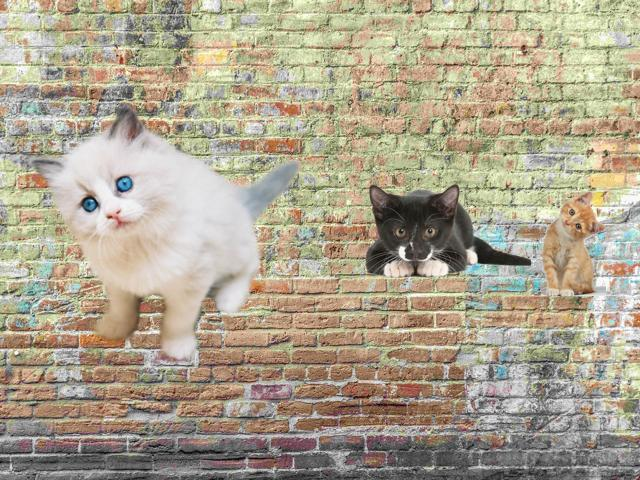cat: (9, 101, 331, 359), (340, 179, 529, 283), (543, 189, 604, 294)
